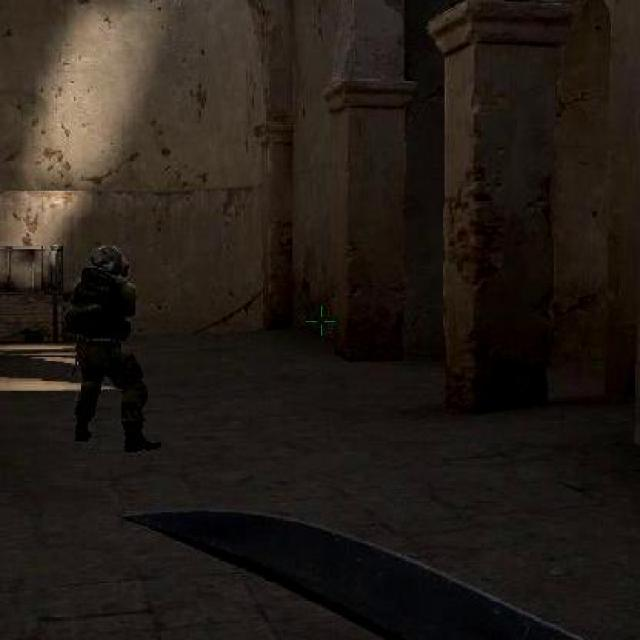CT-Head: (54, 237, 163, 456)
